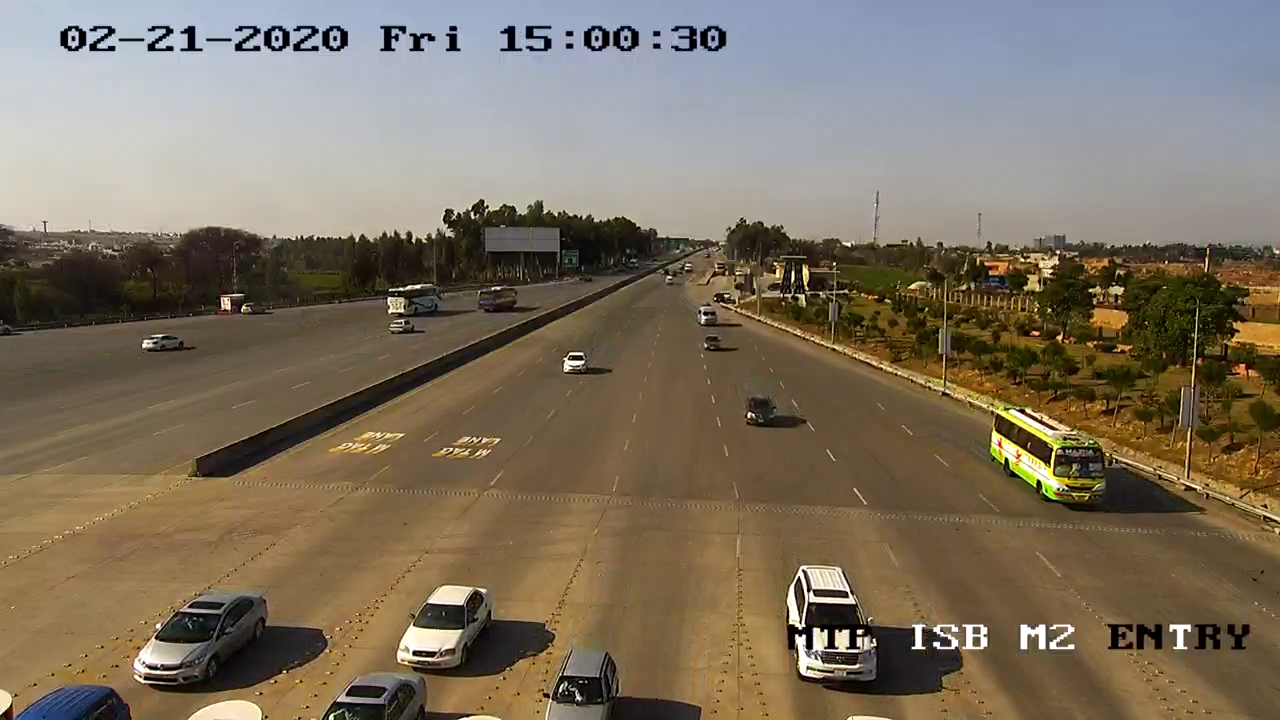f1: (115, 574, 286, 697), (390, 566, 497, 677), (531, 641, 632, 720)
f4: (980, 386, 1129, 520)
